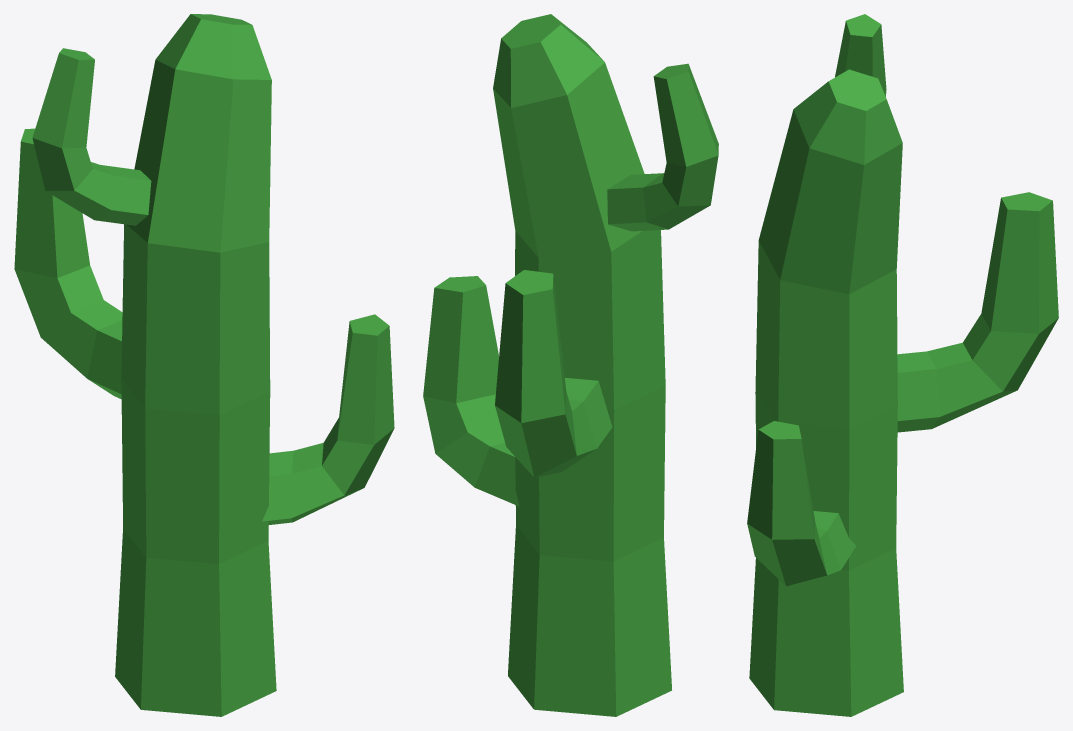
The model's file is Cactus_4.fbx.
3 views of the same model, side by side, from view 1: azimuth 30°, elevation 25°; view 2: azimuth 150°, elevation 25°; view 3: azimuth 270°, elevation 25° (orthographic). The views are drawn at different scales.
Visible parts, largest first — view 1: Cactus, Arm.001, Arm, Arm.002; view 2: Cactus, Arm.001, Arm, Arm.002; view 3: Cactus, Arm.001, Arm, Arm.002.
Part boxes in pixels (<box>): Cactus: <box>115,14,276,716</box>; Arm.001: <box>14,128,122,399</box>; Arm: <box>262,314,394,524</box>; Arm.002: <box>32,48,151,225</box>; Cactus: <box>493,14,671,716</box>; Arm.001: <box>495,270,612,477</box>; Arm: <box>423,276,519,506</box>; Arm.002: <box>607,63,718,231</box>; Cactus: <box>749,69,903,716</box>; Arm.001: <box>897,192,1058,432</box>; Arm: <box>747,421,855,586</box>; Arm.002: <box>835,14,886,96</box>.
Bounding box in the file's own units: 65.5 × 129 × 58.62.
